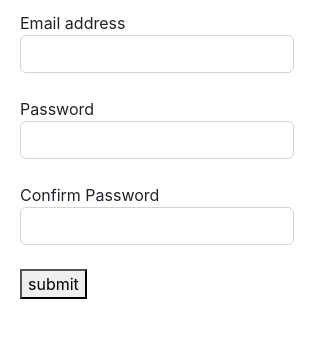
Test: password validation › does return error if the password is less than 5 characters
Type "good@email.com" into the field labelled "Email address" at {"x": 157, "y": 54}, box [20,35,294,73]
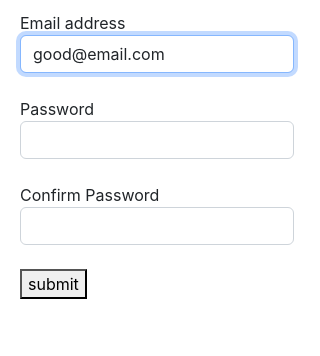
Type "1234" into the password field labelled "Password" at {"x": 157, "y": 140}, box [20,121,294,159]
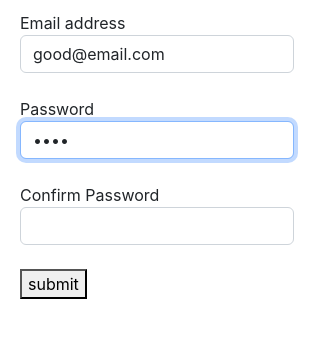
Click the button "submit" at {"x": 53, "y": 284}, box [20,269,87,299]
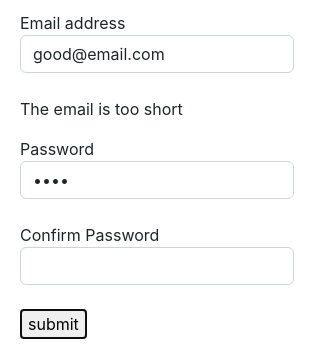
Expected: the text "The email is too short" is shown, [20,99,183,119]
